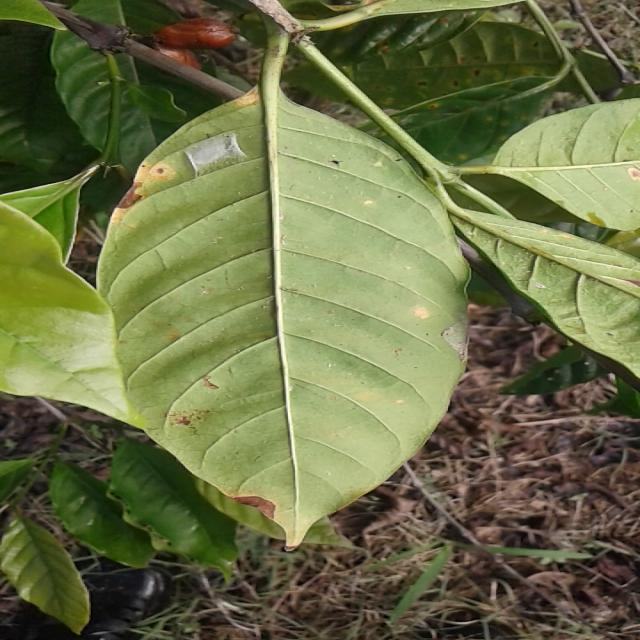Enfermedad-Roya: (94, 92, 472, 550)
